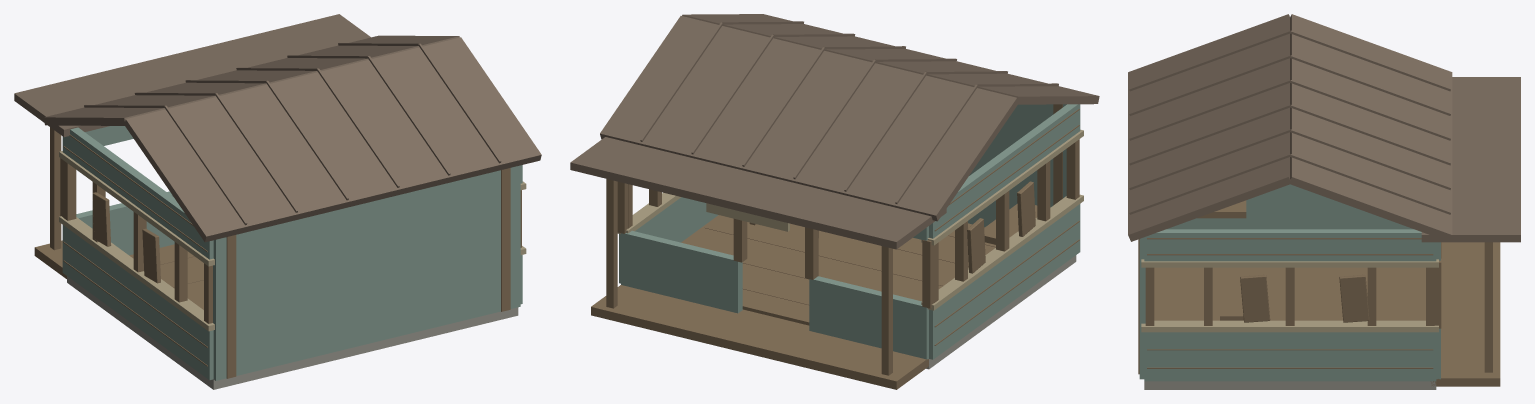
Rendered from StationHouse.glb.
3 views of the same model, side by side, from view 1: azimuth 30°, elevation 25°; view 2: azimuth 150°, elevation 25°; view 3: azimuth 270°, elevation 25° (orthographic).
Visible parts, largest first — view 1: LOD0_HouseRoof, LOD0_HousePaint, LOD1_HouseRoof, LOD1_HousePaint, LOD0_HouseWood, LOD1_HouseWood, LOD0_HouseStone, LOD1_HouseTrim, LOD0_HouseTrim, LOD1_HouseStone; view 2: LOD0_HouseRoof, LOD0_HouseWood, LOD1_HouseRoof, LOD0_HousePaint, LOD1_HousePaint, LOD1_HouseWood, LOD0_HouseTrim, LOD1_HouseTrim, LOD0_HouseStone; view 3: LOD0_HouseRoof, LOD0_HousePaint, LOD1_HousePaint, LOD0_HouseWood, LOD1_HouseRoof, LOD1_HouseWood, LOD1_HouseTrim, LOD0_HouseTrim, LOD1_HouseStone, LOD0_HouseStone.
Boxes of the visible parts, x1,y1,x2,y2 form: LOD0_HouseRoof: [14, 14, 540, 241]; LOD0_HousePaint: [63, 126, 521, 380]; LOD1_HouseRoof: [14, 14, 541, 242]; LOD1_HousePaint: [62, 126, 522, 380]; LOD0_HouseWood: [35, 127, 521, 377]; LOD1_HouseWood: [34, 127, 521, 378]; LOD0_HouseStone: [67, 277, 517, 389]; LOD1_HouseTrim: [59, 151, 526, 331]; LOD0_HouseTrim: [60, 157, 525, 330]; LOD1_HouseStone: [67, 276, 518, 389]; LOD0_HouseRoof: [571, 14, 1098, 248]; LOD0_HouseWood: [591, 104, 1079, 389]; LOD1_HouseRoof: [570, 14, 1099, 249]; LOD0_HousePaint: [619, 104, 1072, 359]; LOD1_HousePaint: [619, 104, 1080, 359]; LOD1_HouseWood: [591, 104, 1075, 389]; LOD0_HouseTrim: [618, 130, 1083, 309]; LOD1_HouseTrim: [617, 129, 1083, 310]; LOD0_HouseStone: [927, 255, 1075, 368]; LOD0_HouseRoof: [1128, 14, 1520, 241]; LOD0_HousePaint: [1140, 184, 1440, 380]; LOD1_HousePaint: [1139, 185, 1440, 381]; LOD0_HouseWood: [1139, 201, 1499, 386]; LOD1_HouseRoof: [1128, 14, 1520, 242]; LOD1_HouseWood: [1138, 200, 1500, 386]; LOD1_HouseTrim: [1141, 259, 1438, 332]; LOD0_HouseTrim: [1142, 259, 1438, 331]; LOD1_HouseStone: [1144, 381, 1436, 389]; LOD0_HouseStone: [1144, 381, 1435, 389].
Size of the model in its own units: 6.6 by 4.22 by 6.73.
